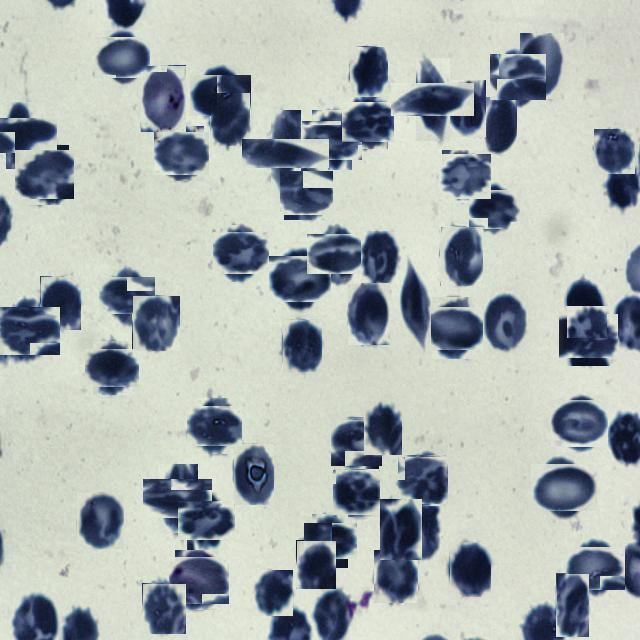red blood cell: (404, 70, 462, 128), (257, 124, 315, 182), (536, 459, 592, 516), (0, 303, 56, 358), (274, 252, 328, 306), (151, 472, 205, 526), (18, 148, 72, 202), (520, 33, 564, 99), (399, 261, 431, 350), (554, 397, 606, 450), (76, 492, 124, 549), (428, 302, 480, 354), (570, 542, 622, 594), (195, 70, 247, 122), (492, 52, 544, 104), (562, 310, 614, 362), (439, 226, 484, 286), (132, 295, 180, 351), (483, 294, 528, 353), (312, 228, 363, 280), (348, 284, 390, 345), (380, 499, 422, 560), (233, 443, 274, 505), (216, 228, 266, 278), (307, 115, 357, 165), (157, 129, 207, 178), (282, 168, 331, 218), (332, 418, 381, 468), (0, 110, 48, 161), (398, 456, 447, 505), (440, 152, 489, 201), (374, 550, 418, 603), (568, 280, 608, 338), (449, 542, 491, 597), (98, 34, 146, 82), (190, 402, 238, 450), (182, 497, 230, 545), (344, 99, 392, 146), (40, 276, 81, 331), (142, 583, 186, 634), (361, 232, 401, 288), (333, 469, 380, 516), (210, 92, 250, 146), (282, 319, 322, 372), (104, 272, 150, 318), (472, 186, 518, 232), (90, 345, 136, 391), (556, 573, 589, 637), (449, 80, 486, 137), (404, 506, 442, 561), (364, 401, 402, 455), (349, 45, 388, 97), (308, 518, 352, 564), (483, 97, 517, 155), (296, 540, 336, 589), (593, 128, 635, 174), (252, 570, 293, 616)
ring: (140, 65, 187, 132), (172, 553, 226, 607)
